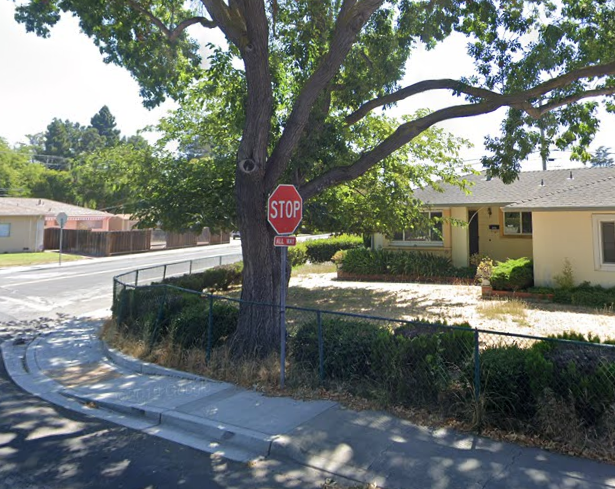stop_sign: (269, 183, 304, 235)
